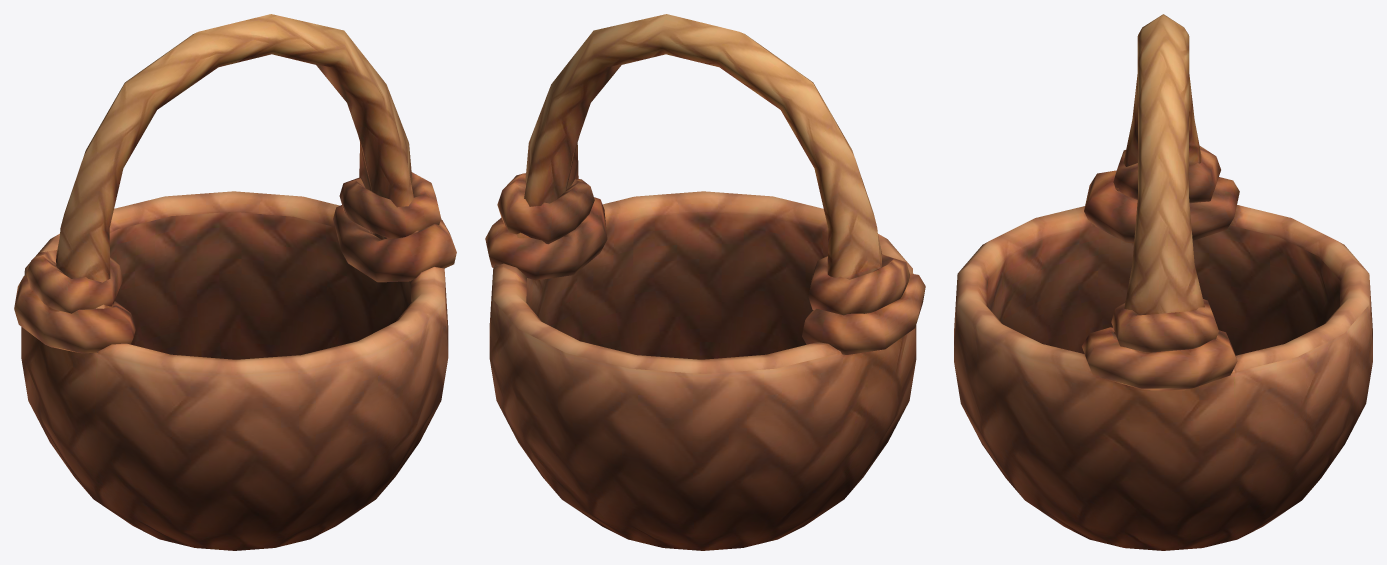
The model's file is SE_Basket_01_SM.FBX.
The picture shows the model from 3 angles, left to right: view 1: azimuth 30°, elevation 25°; view 2: azimuth 150°, elevation 25°; view 3: azimuth 270°, elevation 25°; orthographic projection.
Visible parts, largest first — view 1: SE_Basket_01_SM_LOD0; view 2: SE_Basket_01_SM_LOD0; view 3: SE_Basket_01_SM_LOD0.
Boxes of the visible parts, bbox=[...] form: SE_Basket_01_SM_LOD0: bbox=[14, 14, 456, 550]; SE_Basket_01_SM_LOD0: bbox=[485, 14, 925, 550]; SE_Basket_01_SM_LOD0: bbox=[954, 14, 1372, 550].
Size of what is drawn, in the model's own units: 258 by 235 by 291.
